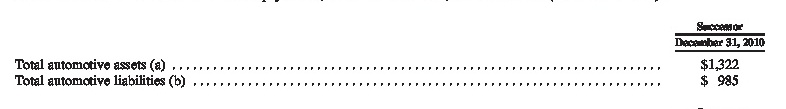table: (0, 0, 786, 109)
